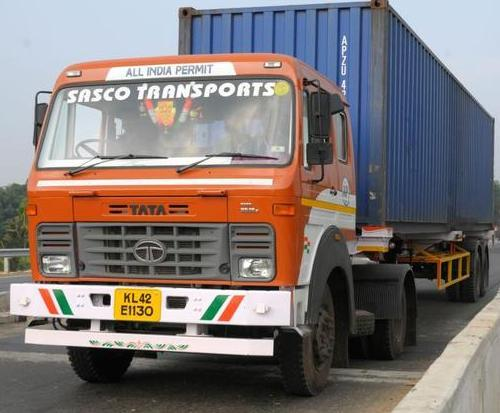truck: (28, 0, 500, 404)
